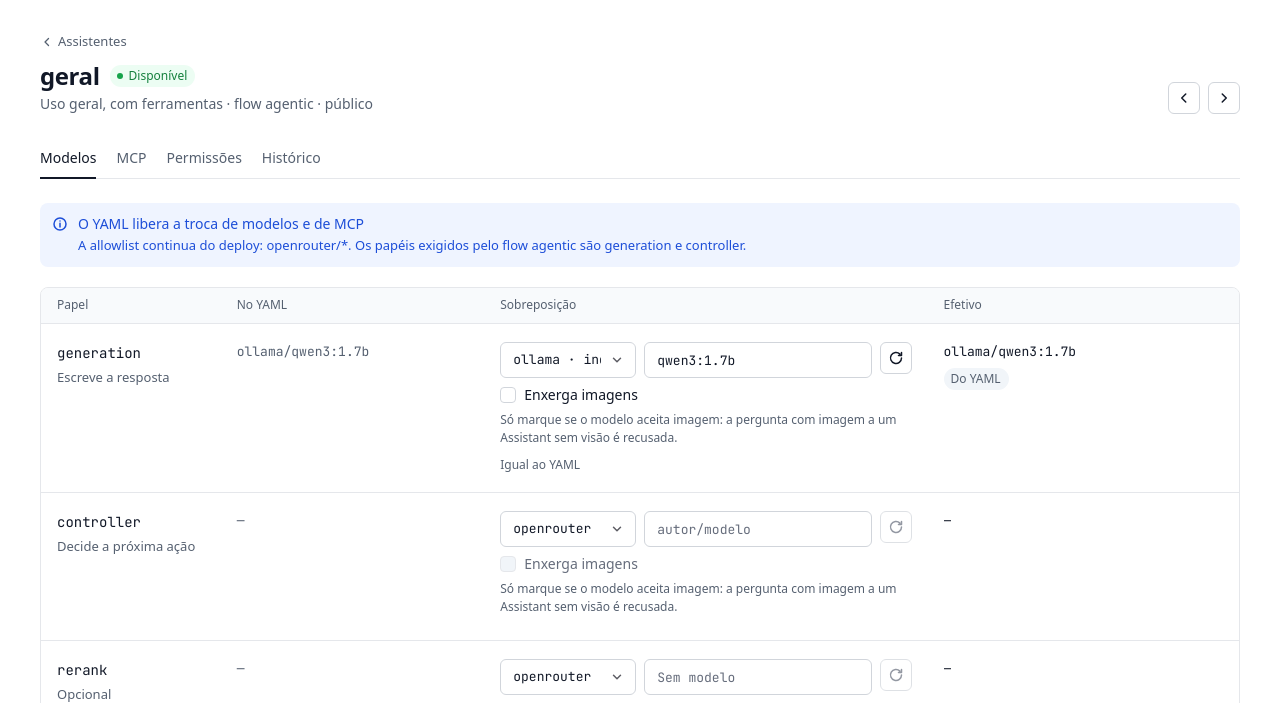
aba Modelos › o provedor em uso que não está pronto continua na lista, marcado como indisponível
Expected: the field named "Modelo de generation" holds "qwen3:1.7b", [644,342,872,378]
Select "openrouter" in the dropdown named "Provedor de generation" at (568, 360), box [500,342,636,378]
(page scrolled)
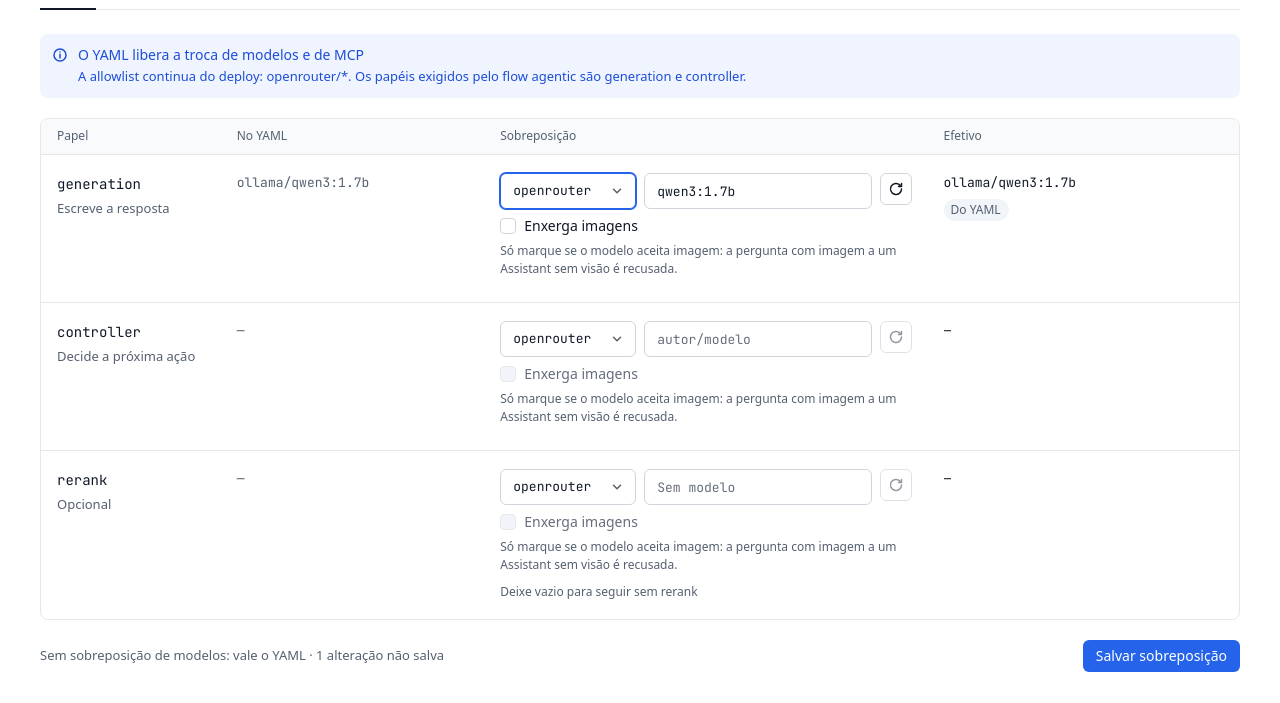
Expected: the text "1 alteração não salva" is shown, [40,646,444,664]
